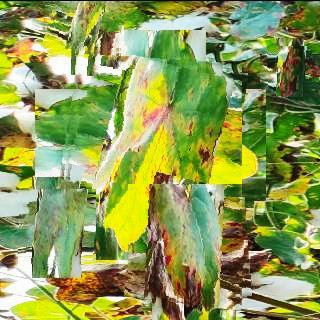blight: (59, 52, 242, 236), (128, 183, 252, 306), (18, 188, 96, 266), (45, 0, 124, 56), (268, 45, 312, 89)
